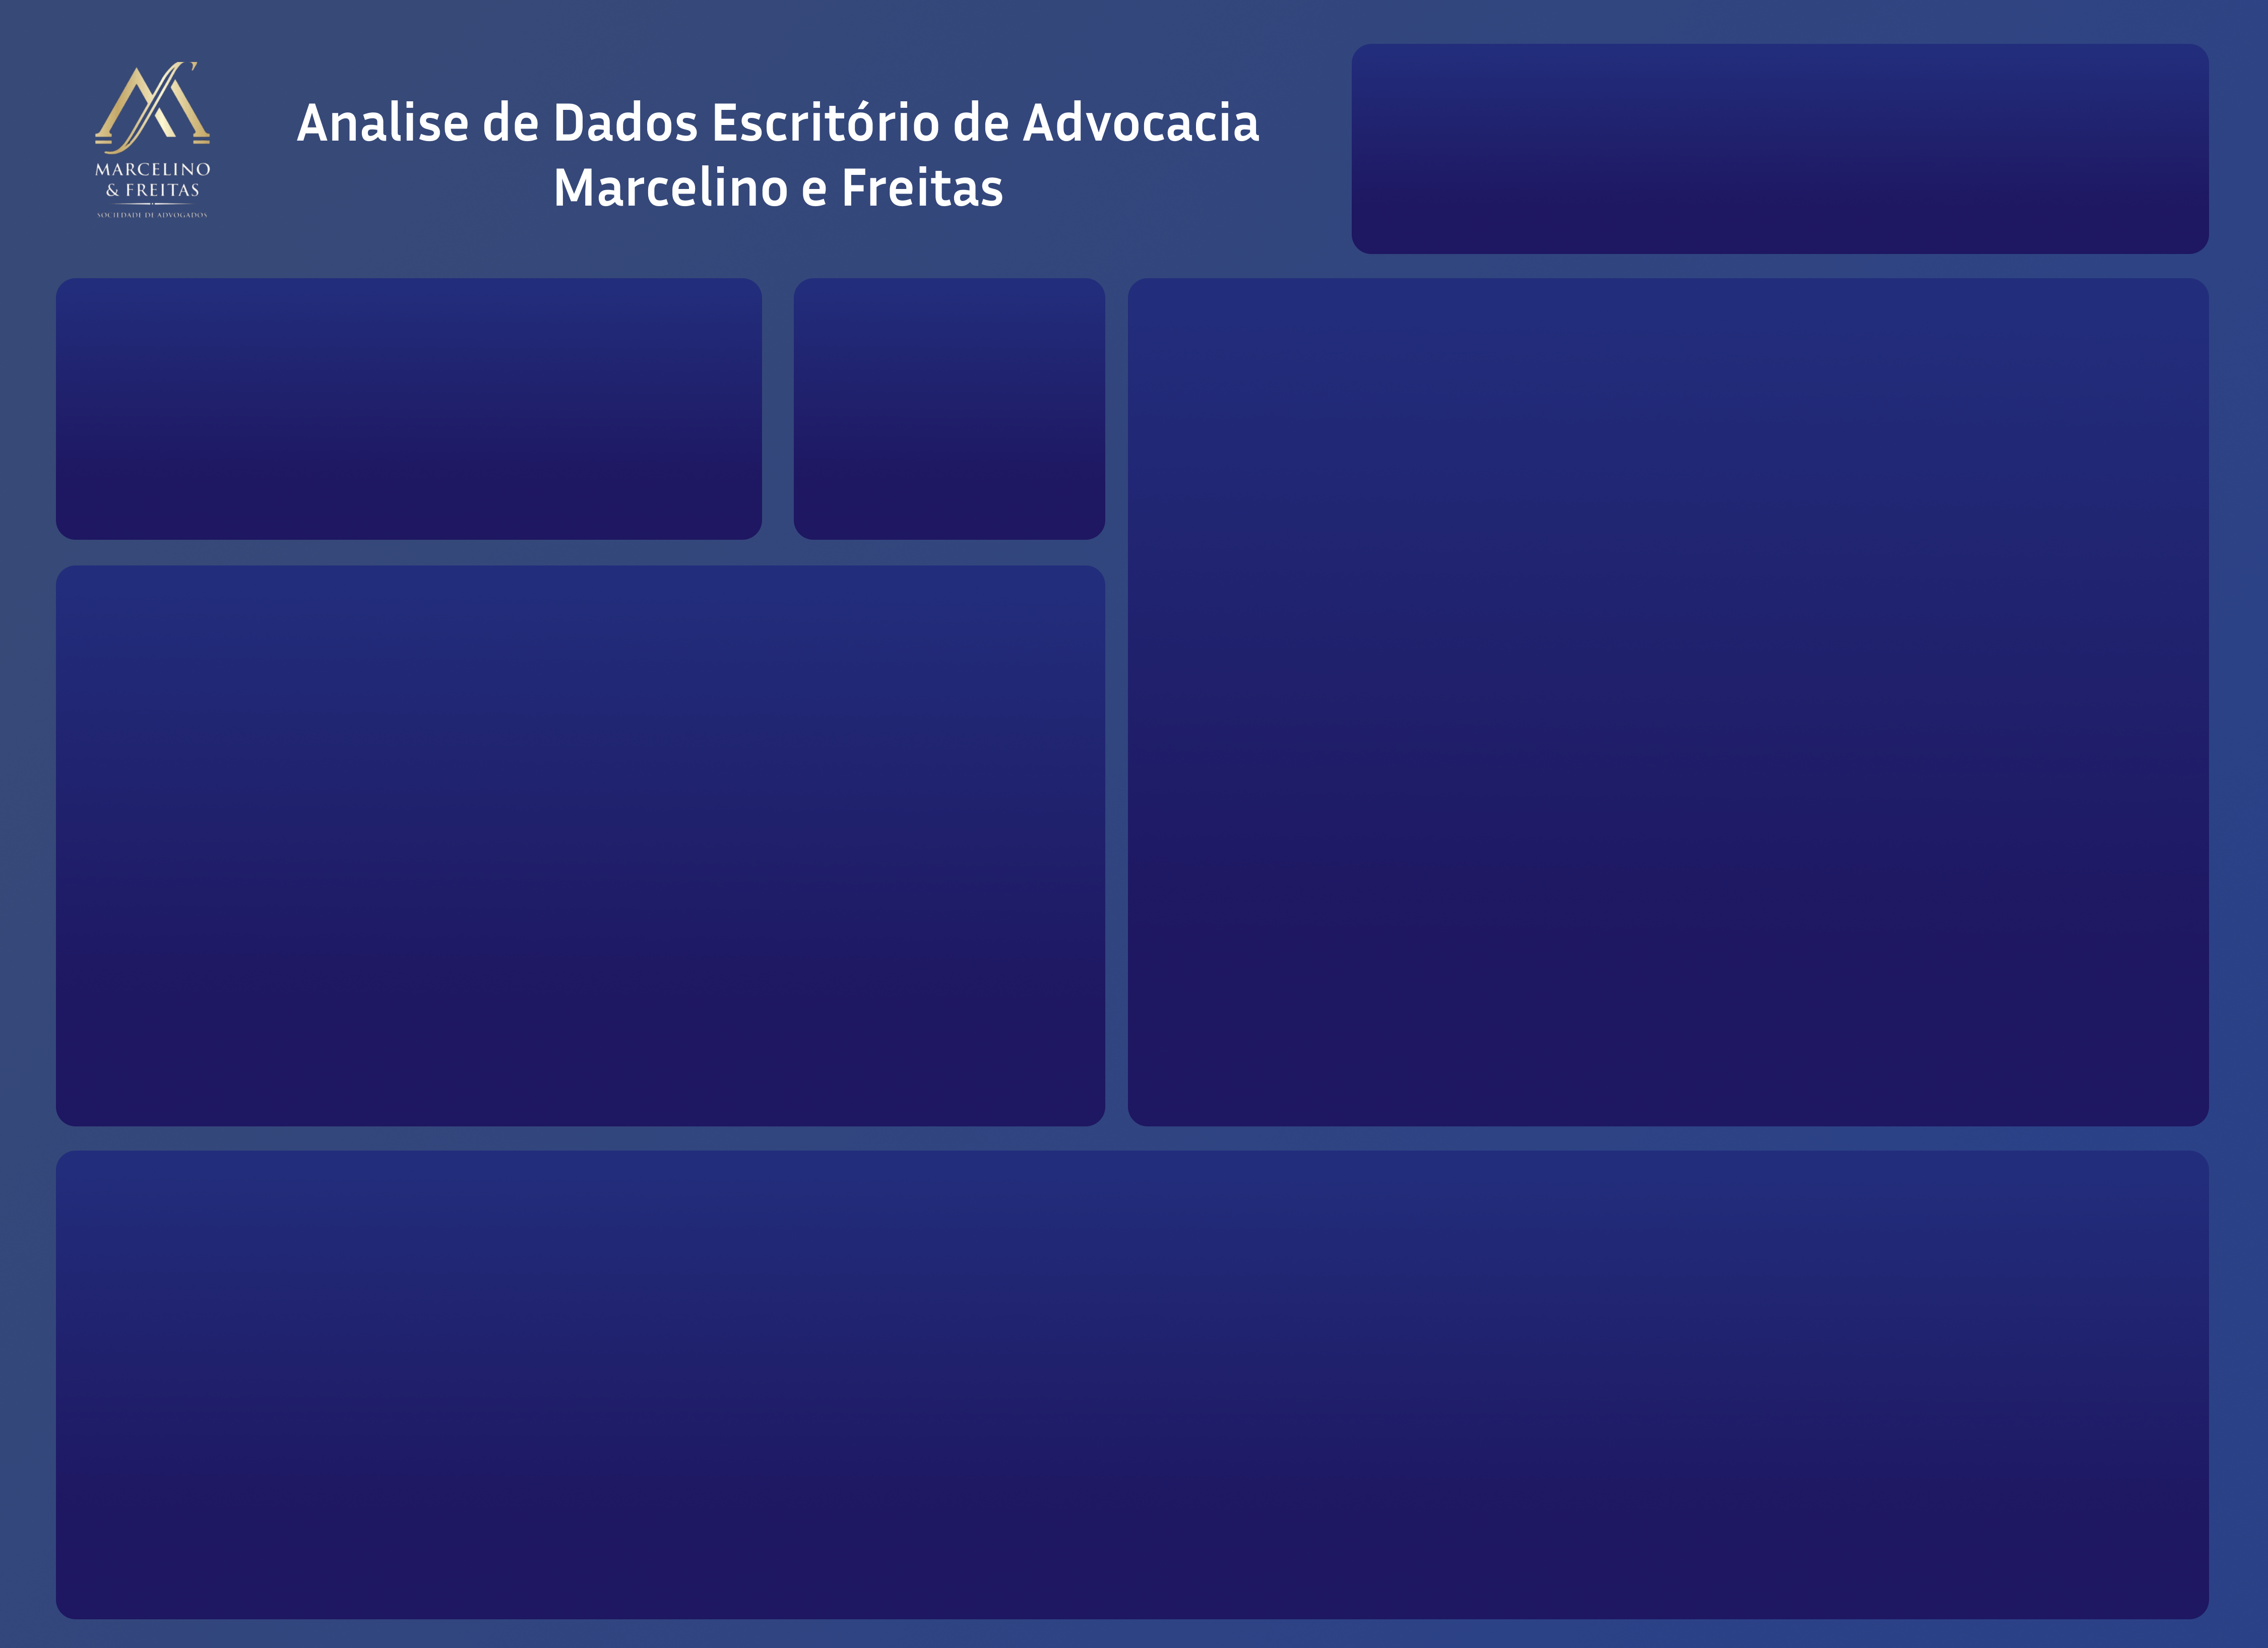

The page's visual inventory and layout, read from the dashboard file:
{"tool":"powerbi","page":{"name":"Página 1","canvas":[1500,1090],"ordinal":0},"visuals":[{"type":"card","title":"Casos Encerrados","fields":{"Values":["Medidas.Casos Encerrados"]},"box":[41.6,190.4,232,144.5],"z":0},{"type":"card","title":"Casos Ativos","fields":{"Values":["Medidas.Casos Ativos"]},"box":[273.6,190.4,227.6,144.5],"z":1000},{"type":"card","title":"Total de Casos","fields":{"Values":["Medidas.Casos Totais"]},"box":[529.7,190.4,197,144.5],"z":2000},{"type":"funnel","title":"Total de Casos por Status de Encerramento","fields":{"Category":["Dados.Status de Encerramento"],"Y":["CountNonNull(Dados.ID do Caso)"]},"box":[757.3,190.4,693.8,271.4],"z":3000},{"type":"donutChart","fields":{"Category":["Dados.Advogado Responsável"],"Y":["Medidas.Valor Faturado"]},"box":[757.3,437.8,693.8,297.7],"z":4000},{"type":"clusteredBarChart","title":"Total de Casos por Classe Processual","fields":{"Category":["Dados.Classe"],"Y":["Medidas.Casos Totais"]},"box":[41.6,380.8,709.2,348],"z":5000},{"type":"areaChart","title":"Total de Casos por Ano","fields":{"Category":["Calendario.dt_data.Variation.Hierarquia de datas.Ano"],"Y":["Medidas.Casos Totais"]},"box":[41.6,763.9,1422.7,302],"z":6000},{"type":"slicer","title":"Status","fields":{"Values":["Dados.Status de Encerramento"]},"box":[908.3,35,262.7,91.9],"z":6001},{"type":"slicer","title":"Ano (Encerramento)","fields":{"Values":["Dados.Data de Encerramento.Variation.Hierarquia de datas.Ano"]},"box":[1195.1,32.8,256.1,118.2],"z":6002}]}

Visuals, with their boxes in screenshot pixels (x1, y1, x2, y2), scaled from the page's 1500x1090 canvas onto the 2268x1648 screenshot:
"Casos Encerrados" card: select_region(63, 288, 414, 506)
"Casos Ativos" card: select_region(414, 288, 758, 506)
"Total de Casos" card: select_region(801, 288, 1099, 506)
"Total de Casos por Status de Encerramento" funnel: select_region(1145, 288, 2194, 698)
donutChart - Dados.Advogado Responsável x Medidas.Valor Faturado: select_region(1145, 662, 2194, 1112)
"Total de Casos por Classe Processual" clusteredBarChart: select_region(63, 576, 1135, 1102)
"Total de Casos por Ano" areaChart: select_region(63, 1155, 2214, 1612)
"Status" slicer: select_region(1373, 53, 1771, 192)
"Ano (Encerramento)" slicer: select_region(1807, 49, 2194, 228)
